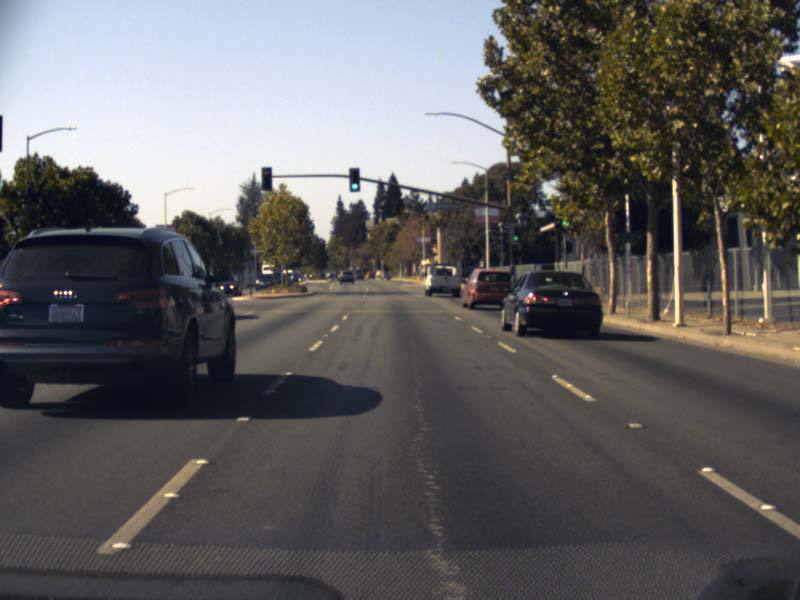Green: (348, 168, 358, 191), (560, 211, 569, 227), (513, 226, 520, 241)
Red: (260, 166, 271, 189)
